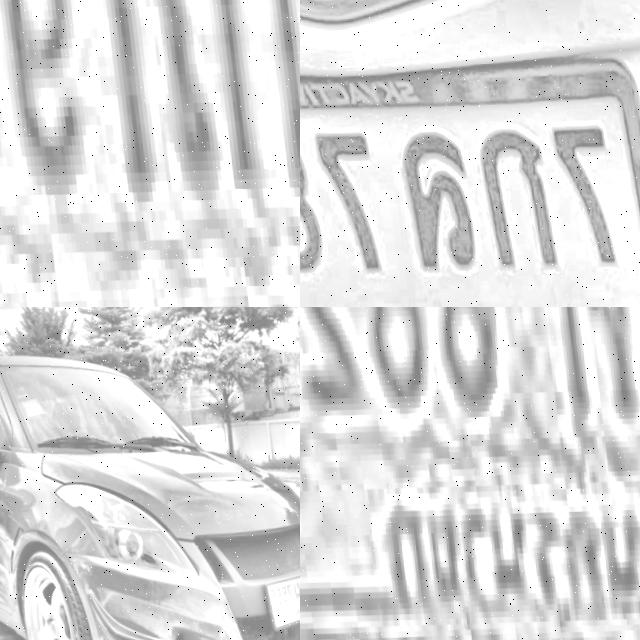license-plate: (300, 307, 640, 640), (300, 6, 640, 307), (0, 0, 300, 307), (255, 567, 300, 629)
